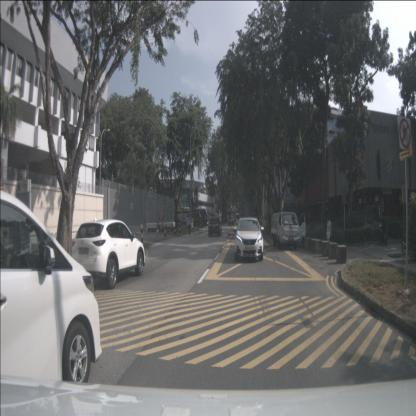human-pedestrian-adult: (326, 216, 332, 248), (188, 216, 192, 236), (157, 217, 161, 233), (161, 218, 164, 232), (177, 225, 181, 234), (168, 227, 172, 234), (173, 227, 176, 235)
vehicle-bus-rigid: (173, 209, 208, 231)
vehicle-car: (0, 186, 101, 406), (70, 219, 146, 290), (234, 216, 264, 261), (208, 217, 222, 238), (228, 216, 234, 225)
vehicle-motorcycle: (401, 230, 414, 253), (379, 220, 387, 248)
vehicle-truck: (271, 211, 306, 250)
